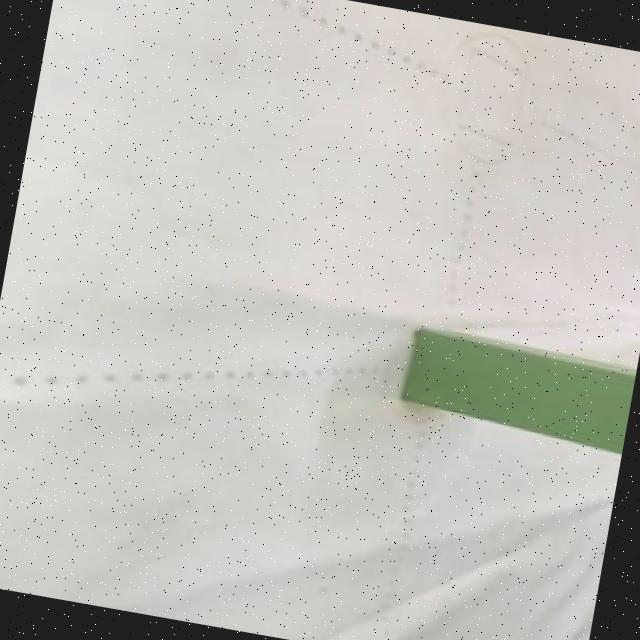greenbox: (398, 326, 637, 456)
